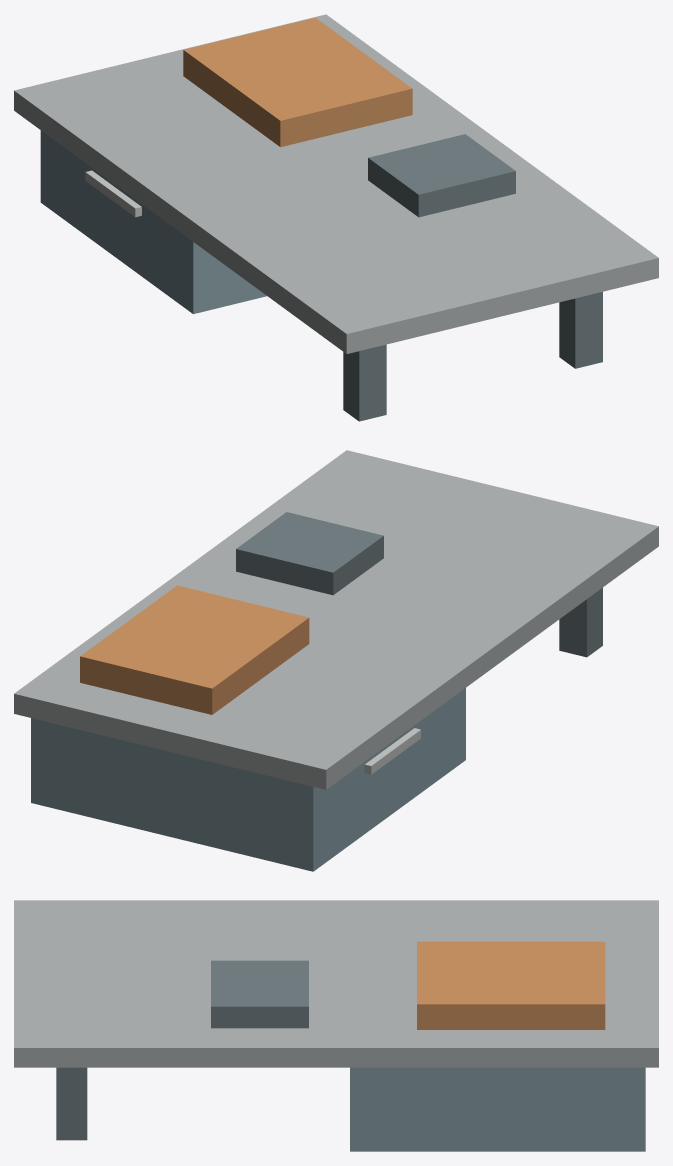
The model's file is repair_station.glb.
The picture shows the model from 3 angles, top to bottom: view 1: azimuth 30°, elevation 25°; view 2: azimuth 150°, elevation 25°; view 3: azimuth 270°, elevation 25°; orthographic projection. The views are drawn at different scales.
Parts seen in each view (by area): view 1: Workbench, ToolCase, Cabinet, Equipment, Leg.South, Leg.North, Cabinet.Handle; view 2: Workbench, Cabinet, ToolCase, Equipment, Leg.South, Cabinet.Handle; view 3: Workbench, Cabinet, ToolCase, Equipment, Leg.North.
Boxes of the visible parts, box(x1,y1,x2,y2) form: Workbench: box(14, 14, 658, 353); ToolCase: box(183, 17, 412, 147); Cabinet: box(40, 130, 266, 314); Equipment: box(368, 134, 515, 217); Leg.South: box(343, 344, 386, 421); Leg.North: box(559, 292, 602, 368); Cabinet.Handle: box(85, 170, 141, 217); Workbench: box(14, 450, 658, 789); Cabinet: box(31, 688, 465, 871); ToolCase: box(80, 585, 309, 714); Equipment: box(236, 512, 383, 595); Leg.South: box(559, 587, 602, 657); Cabinet.Handle: box(364, 728, 420, 774); Workbench: box(14, 900, 658, 1067); Cabinet: box(350, 1067, 645, 1151); ToolCase: box(417, 941, 605, 1029); Equipment: box(211, 960, 308, 1028); Leg.North: box(56, 1067, 87, 1140).
Bounding box in the file's own units: 2.6 × 1.1 × 4.8.
